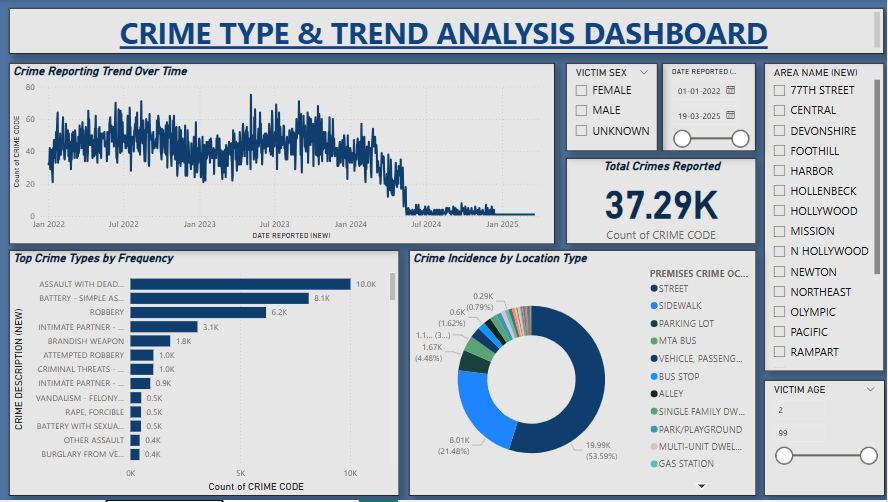

The dashboard page shown, as its layout file describes it:
{"tool":"powerbi","page":{"name":"CRIME TREND","canvas":[1280,720],"ordinal":0},"visuals":[{"type":"card","title":"Total Crimes Reported","fields":{"Values":["CountNonNull(Sheet1.CRIME CODE)"]},"box":[816.5,227.5,273.6,123.8],"z":0},{"type":"barChart","title":"Top Crime Types by Frequency","fields":{"Y":["CountNonNull(Sheet1.CRIME CODE)"],"Category":["Sheet1.CRIME DESCRIPTION (NEW)"]},"box":[14.4,360,561.6,354.2],"z":1000},{"type":"lineChart","title":"Crime Reporting Trend Over Time","fields":{"Category":["Sheet1.DATE REPORTED (NEW)"],"Y":["CountNonNull(Sheet1.CRIME CODE)"]},"box":[14.4,90.7,786.2,260.6],"z":2000},{"type":"slicer","fields":{"Values":["Sheet1.AREA NAME (NEW)"]},"box":[1101.6,90.7,172.8,443.5],"z":3000},{"type":"slicer","fields":{"Values":["Sheet1.DATE REPORTED (NEW)"]},"box":[954.7,90.7,135.4,126.7],"z":4000},{"type":"donutChart","title":"Crime Incidence by Location Type","fields":{"Y":["CountNonNull(Sheet1.CRIME CODE)"],"Category":["Sheet1.PREMISES CRIME OCCURRED (NEW)"]},"box":[590.4,360,499.7,354.2],"z":5000},{"type":"slicer","fields":{"Values":["Sheet1.VICTIM SEX"]},"box":[816.5,90.7,132.5,126.7],"z":6000},{"type":"slicer","fields":{"Values":["Sheet1.VICTIM AGE"]},"box":[1101.6,546.7,173.5,167],"z":7000},{"type":"textbox","box":[14.4,11.5,1260,66.2],"z":8000}]}

Visuals, with their boxes in screenshot pixels (x1, y1, x2, y2), scaled from the page's 1280x720 canvas onto the 888x502 screenshot:
"Total Crimes Reported" card: left=566, top=159, right=756, bottom=245
"Top Crime Types by Frequency" barChart: left=10, top=251, right=400, bottom=498
"Crime Reporting Trend Over Time" lineChart: left=10, top=63, right=555, bottom=245
slicer - Sheet1.AREA NAME (NEW): left=764, top=63, right=884, bottom=372
slicer - Sheet1.DATE REPORTED (NEW): left=662, top=63, right=756, bottom=152
"Crime Incidence by Location Type" donutChart: left=410, top=251, right=756, bottom=498
slicer - Sheet1.VICTIM SEX: left=566, top=63, right=658, bottom=152
slicer - Sheet1.VICTIM AGE: left=764, top=381, right=885, bottom=498
textbox: left=10, top=8, right=884, bottom=54
